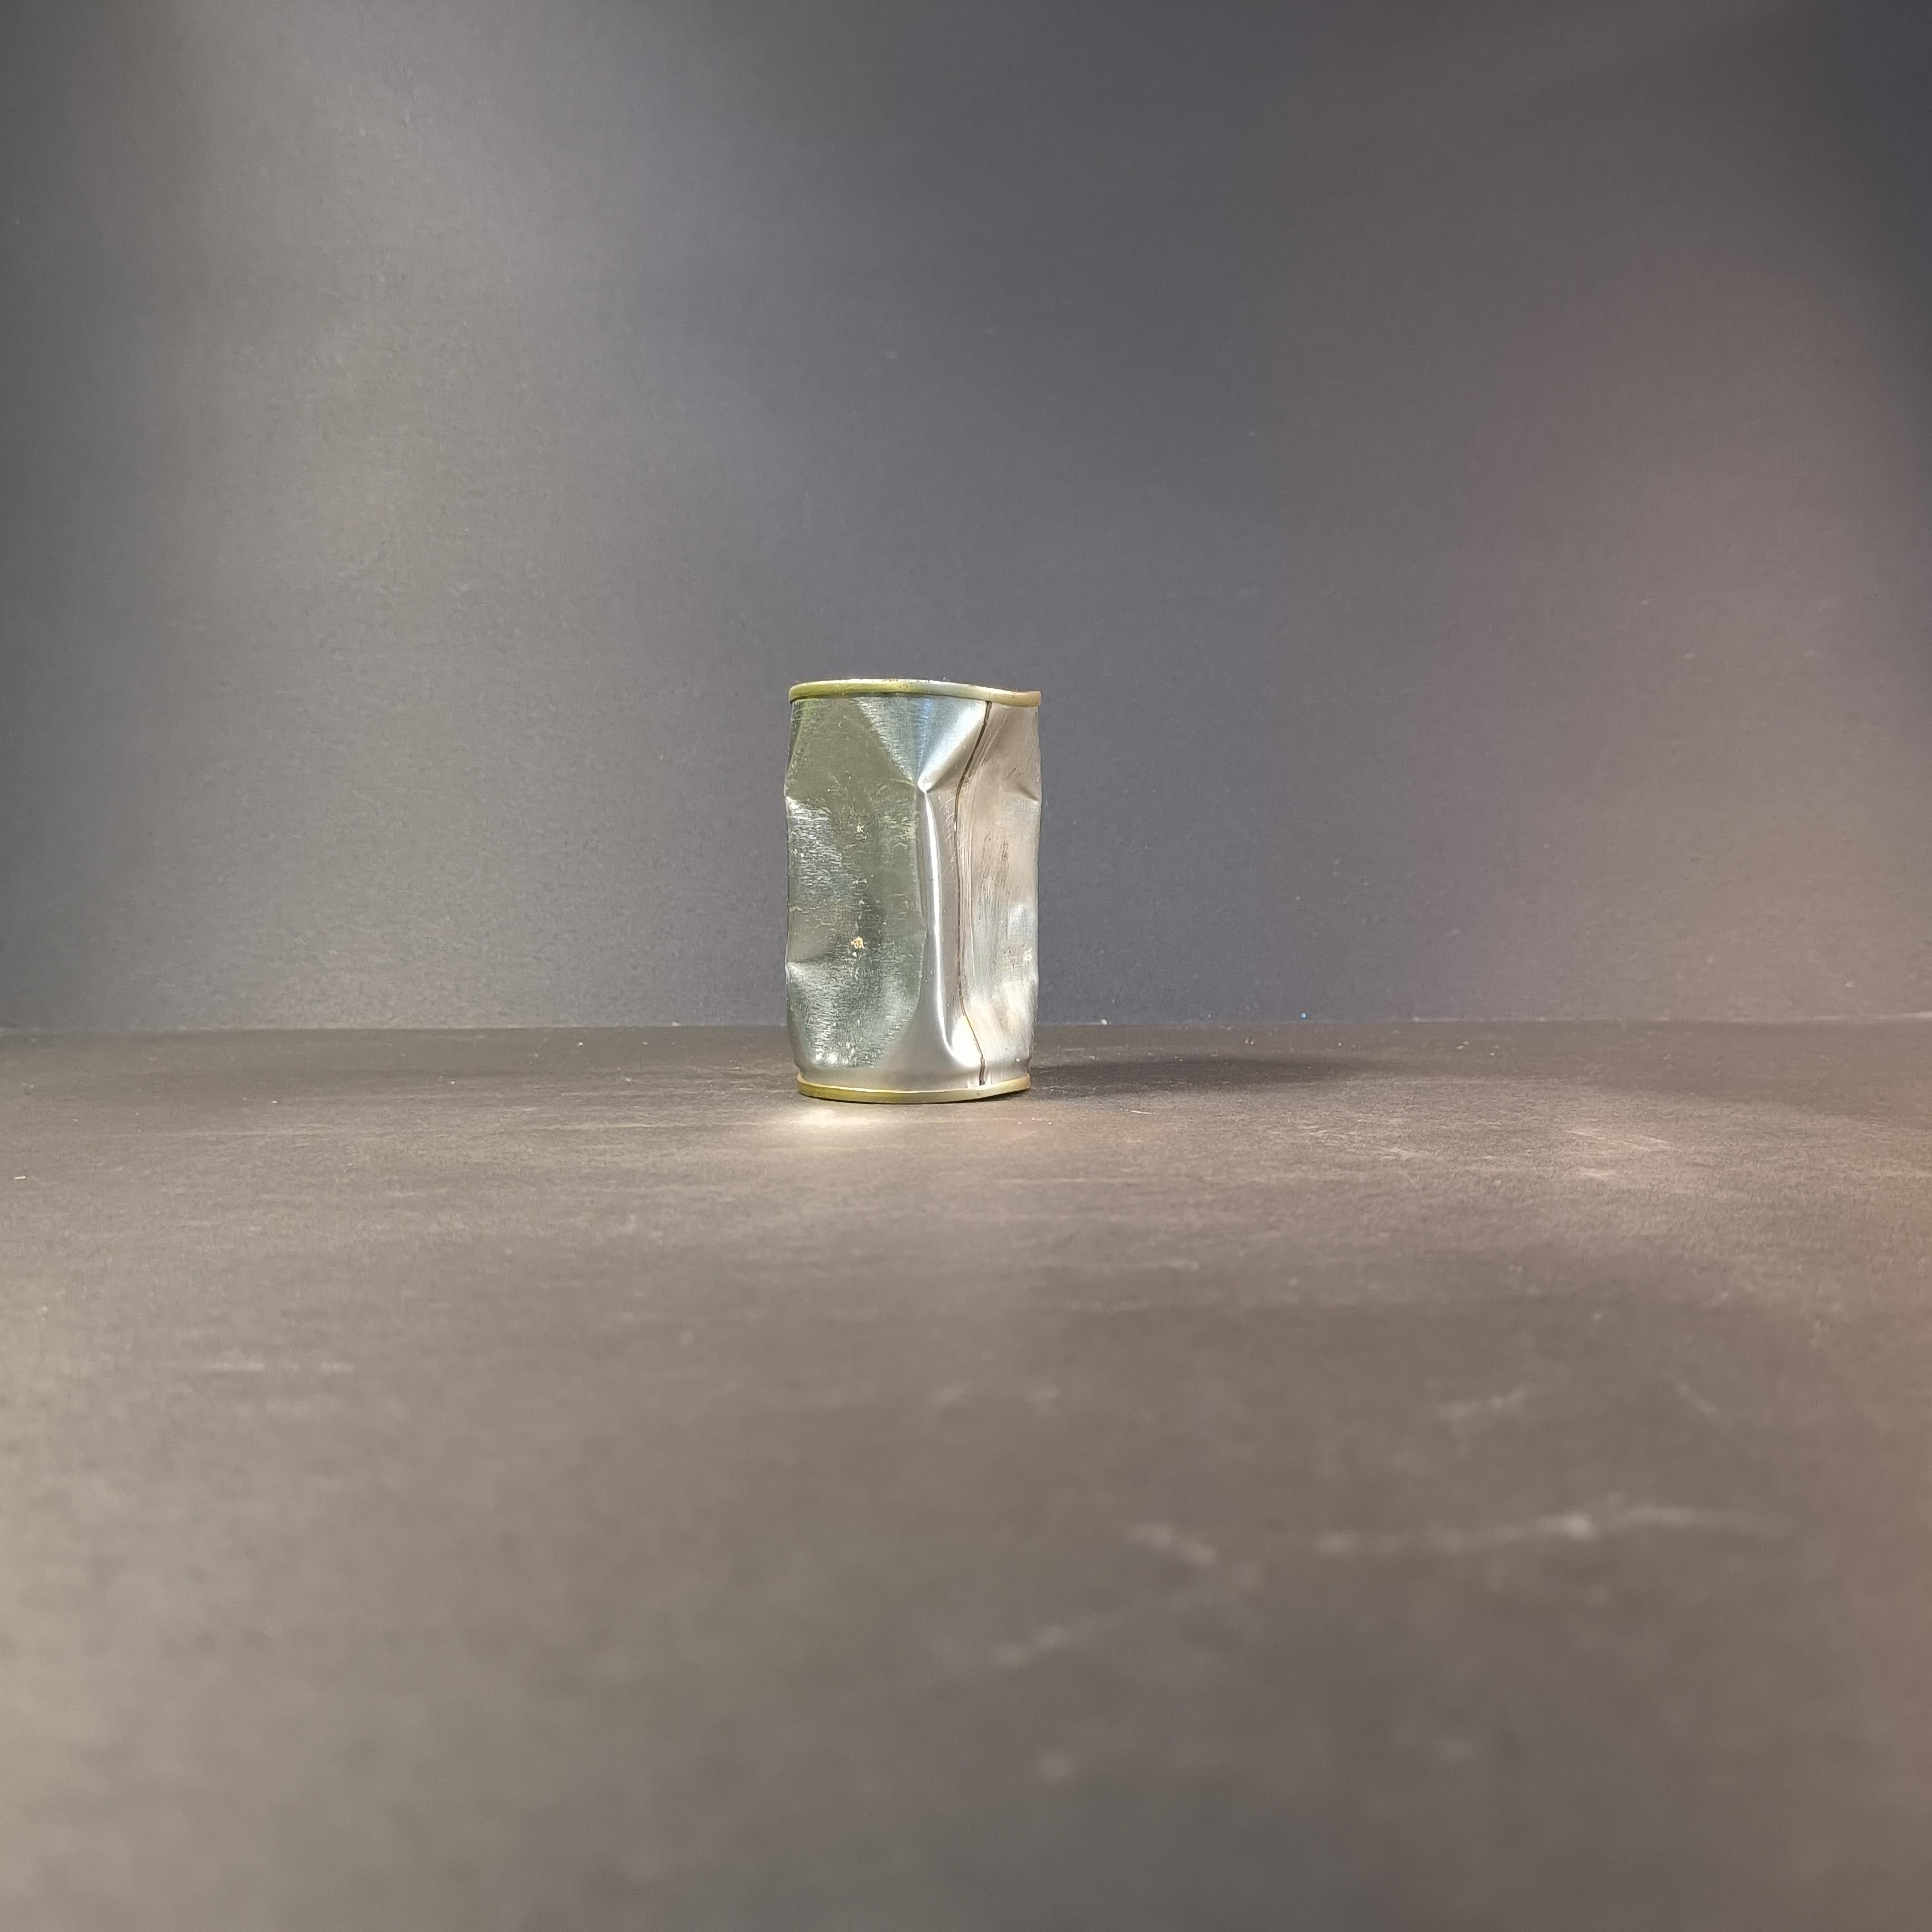Dented: (745, 628, 1049, 1118)
